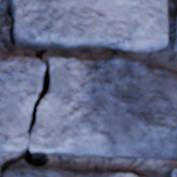brick: (10, 0, 167, 51), (1, 168, 138, 176), (174, 20, 176, 50), (170, 169, 176, 176)
broken_brick: (31, 54, 176, 161), (0, 56, 43, 153)
crack: (0, 2, 53, 174)
